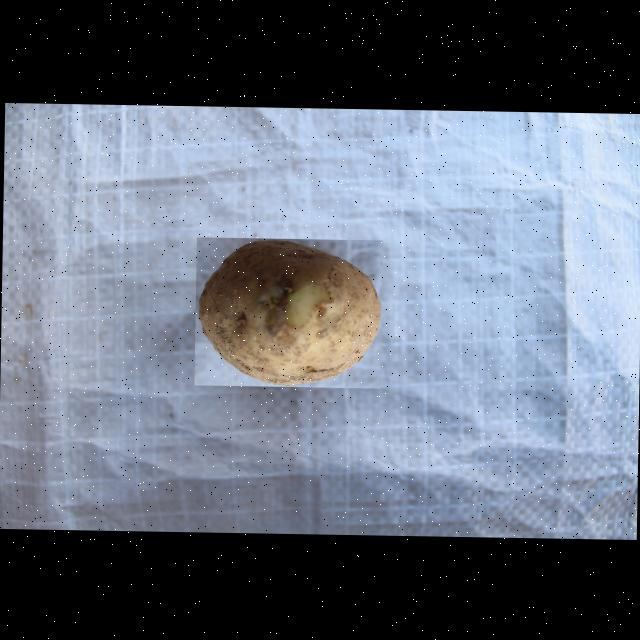Diseased-fungal potato: (192, 236, 382, 387)
